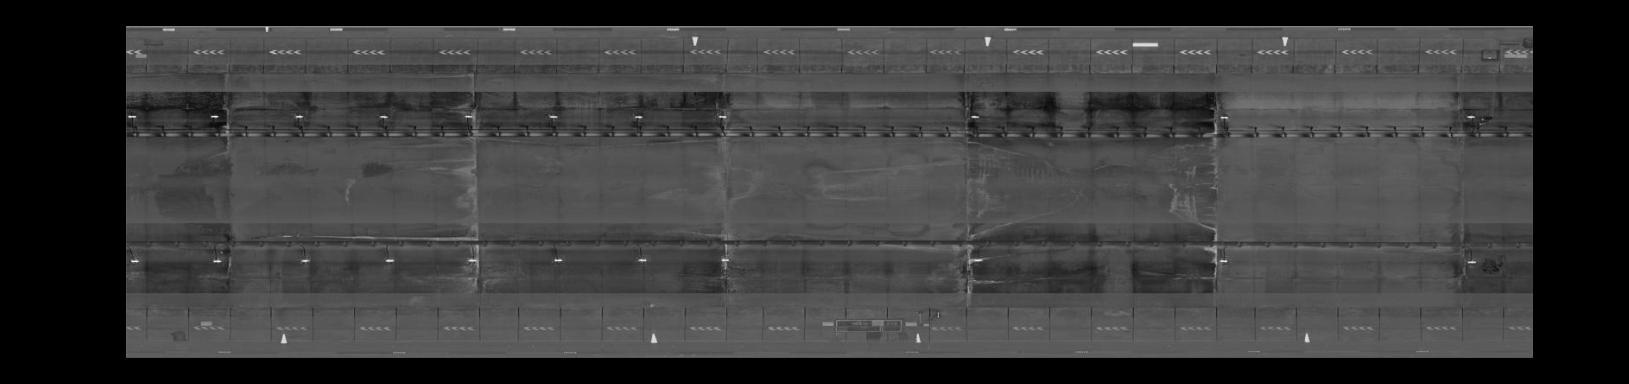light: (629, 109, 645, 122), (297, 255, 315, 267), (291, 111, 310, 121), (633, 255, 651, 266), (460, 112, 478, 122), (1216, 256, 1234, 266), (207, 112, 223, 122), (714, 255, 735, 264), (969, 255, 990, 264), (1463, 111, 1478, 121), (209, 257, 228, 266), (376, 112, 393, 121), (545, 112, 562, 121), (715, 112, 731, 121), (1464, 258, 1480, 268), (129, 255, 143, 266), (1216, 113, 1231, 122), (969, 111, 982, 122), (464, 256, 481, 265), (126, 111, 138, 121), (550, 255, 565, 264), (381, 257, 398, 264)
